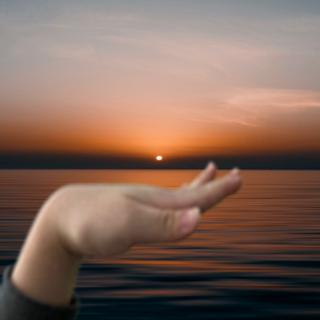Wait: (30, 156, 253, 277)
